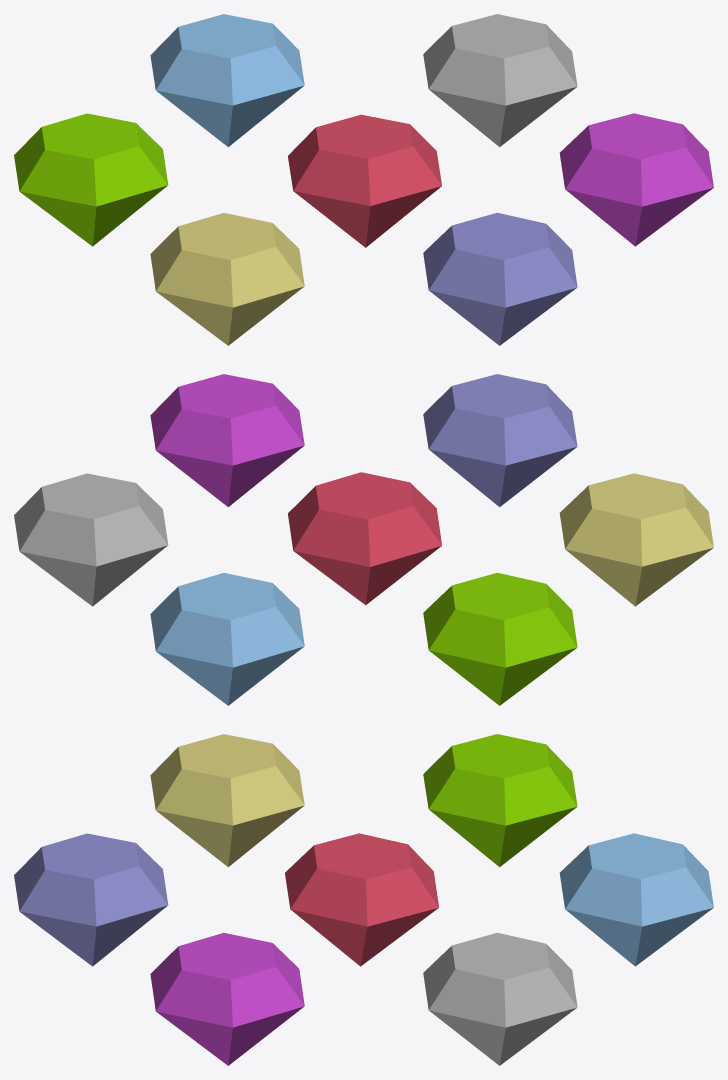
File: Chaos Emeralds.dae
The picture shows the model from 3 angles, top to bottom: view 1: azimuth 30°, elevation 25°; view 2: azimuth 150°, elevation 25°; view 3: azimuth 270°, elevation 25°; orthographic projection.
Parts seen in each view (by area): view 1: Chaos_Emerald.2, Chaos_Emerald.3, Chaos_Emerald.1, Chaos_Emerald.4, Chaos_Emerald.7, Chaos_Emerald.6, Chaos_Emerald.5; view 2: Chaos_Emerald.7, Chaos_Emerald.6, Chaos_Emerald.1, Chaos_Emerald.5, Chaos_Emerald.2, Chaos_Emerald.4, Chaos_Emerald.3; view 3: Chaos_Emerald.4, Chaos_Emerald.5, Chaos_Emerald.3, Chaos_Emerald.7, Chaos_Emerald.6, Chaos_Emerald.2, Chaos_Emerald.1.
Part boxes in pixels (left/top/right/bottom): Chaos_Emerald.2: left=150, top=213, right=304, bottom=345; Chaos_Emerald.3: left=423, top=212, right=577, bottom=345; Chaos_Emerald.1: left=14, top=113, right=168, bottom=246; Chaos_Emerald.4: left=559, top=113, right=713, bottom=246; Chaos_Emerald.7: left=288, top=114, right=441, bottom=247; Chaos_Emerald.6: left=150, top=14, right=304, bottom=147; Chaos_Emerald.5: left=423, top=14, right=577, bottom=147; Chaos_Emerald.7: left=288, top=472, right=441, bottom=605; Chaos_Emerald.6: left=150, top=573, right=304, bottom=705; Chaos_Emerald.1: left=423, top=572, right=577, bottom=705; Chaos_Emerald.5: left=14, top=473, right=168, bottom=606; Chaos_Emerald.2: left=559, top=473, right=713, bottom=606; Chaos_Emerald.4: left=150, top=374, right=304, bottom=507; Chaos_Emerald.3: left=423, top=374, right=577, bottom=507; Chaos_Emerald.4: left=150, top=933, right=304, bottom=1065; Chaos_Emerald.5: left=423, top=932, right=577, bottom=1065; Chaos_Emerald.3: left=14, top=833, right=168, bottom=966; Chaos_Emerald.7: left=285, top=833, right=438, bottom=966; Chaos_Emerald.6: left=559, top=833, right=713, bottom=966; Chaos_Emerald.2: left=150, top=734, right=304, bottom=867; Chaos_Emerald.1: left=423, top=734, right=577, bottom=867.
Bounding box in the file's own units: 68.02 × 12.93 × 73.87.
